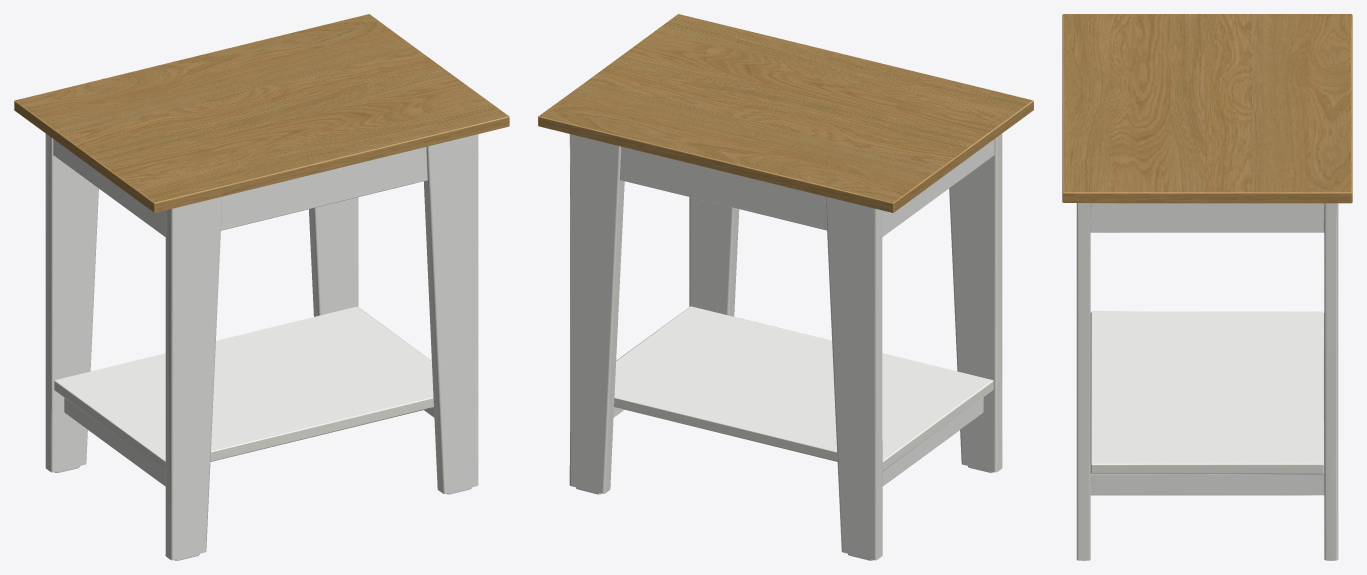
3 renders of one model, left to right at view 1: azimuth 30°, elevation 25°; view 2: azimuth 150°, elevation 25°; view 3: azimuth 270°, elevation 25°, orthographic. The views are drawn at different scales.
Visible parts, largest first — view 1: ASY_ART_80609126_S01_NV01; view 2: ASY_ART_80609126_S01_NV01; view 3: ASY_ART_80609126_S01_NV01.
Part boxes in pixels (<box>): ASY_ART_80609126_S01_NV01: <box>14,14,509,560</box>; ASY_ART_80609126_S01_NV01: <box>538,14,1033,560</box>; ASY_ART_80609126_S01_NV01: <box>1062,14,1352,560</box>.
Size of the model in its own units: 0.585 by 0.5833 by 0.4.
1 material, 1 textured.
